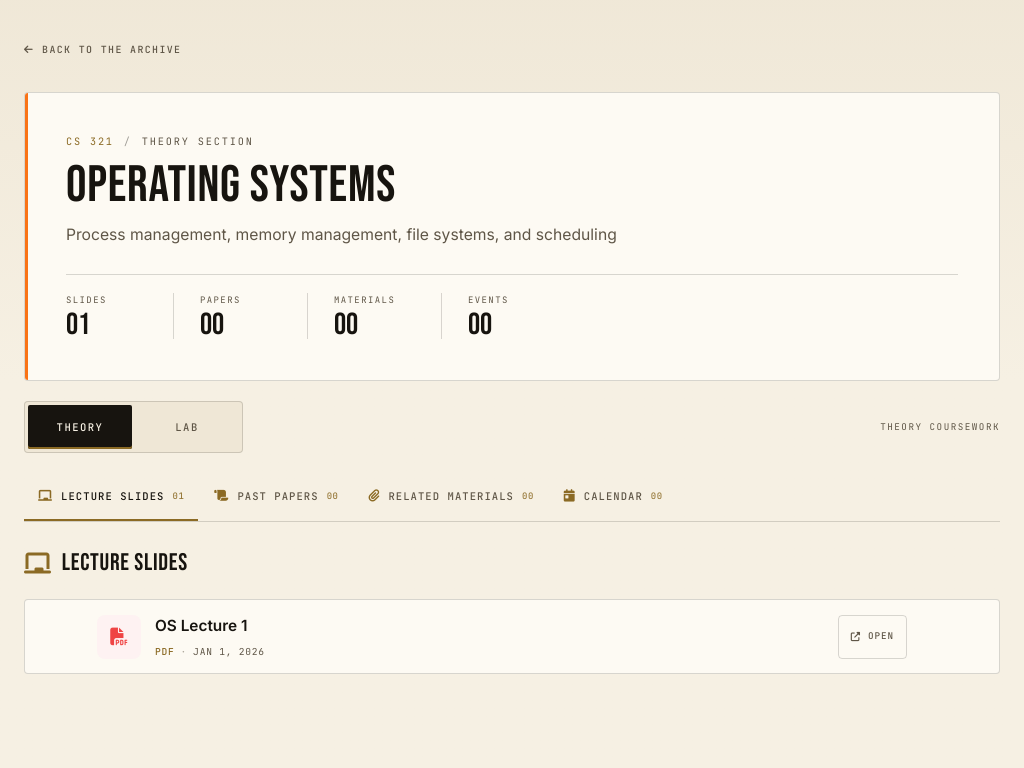
it: CourseDetail › switches to the lab section and reloads the lab categories
This screenshot has width=1024, height=768.
Expected: the text "OS Lecture 1" is shown, [155, 616, 247, 635]
Click the button "Lab".
click(187, 427)  # box [135, 405, 239, 449]
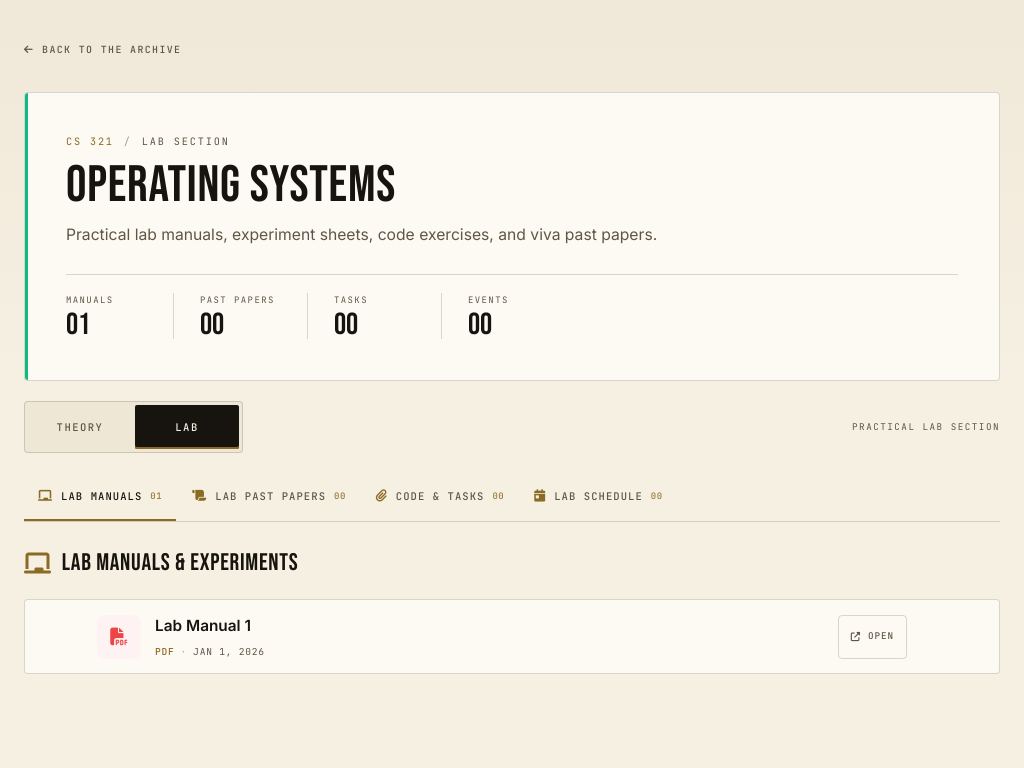
Now the text "Lab Manual 1" is shown, box [155, 616, 251, 635]
Now the tab "Lab Manuals 01" is shown, box [24, 473, 176, 521]
Now the text "Practical lab section" is shown, box [852, 420, 1000, 435]
